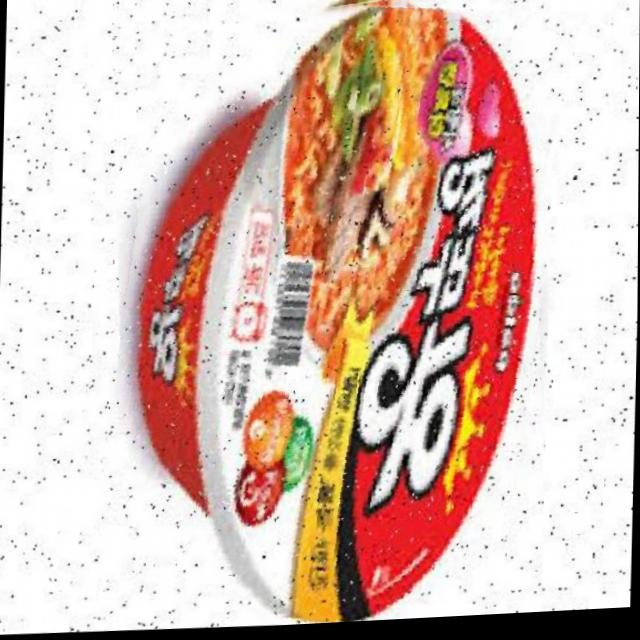Miscellaneous: (71, 0, 555, 637)
